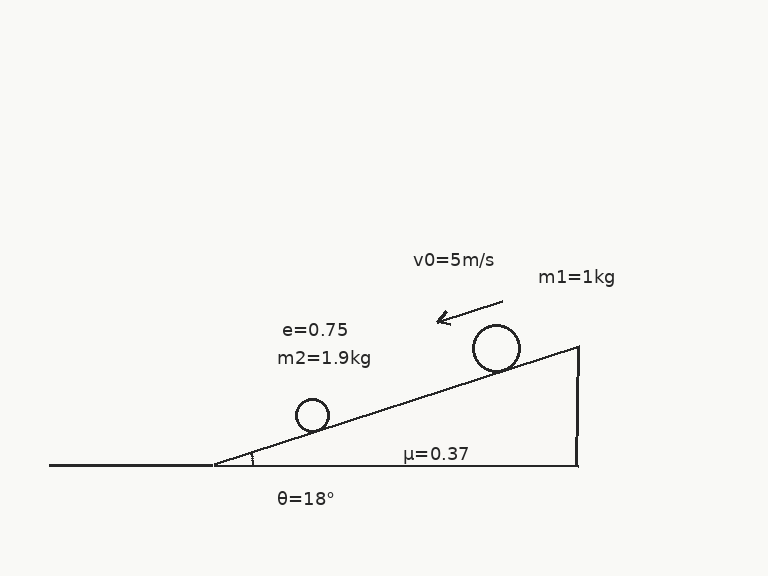ball: (470, 322, 522, 374), (293, 396, 331, 434)
ramp: (211, 345, 579, 467)
